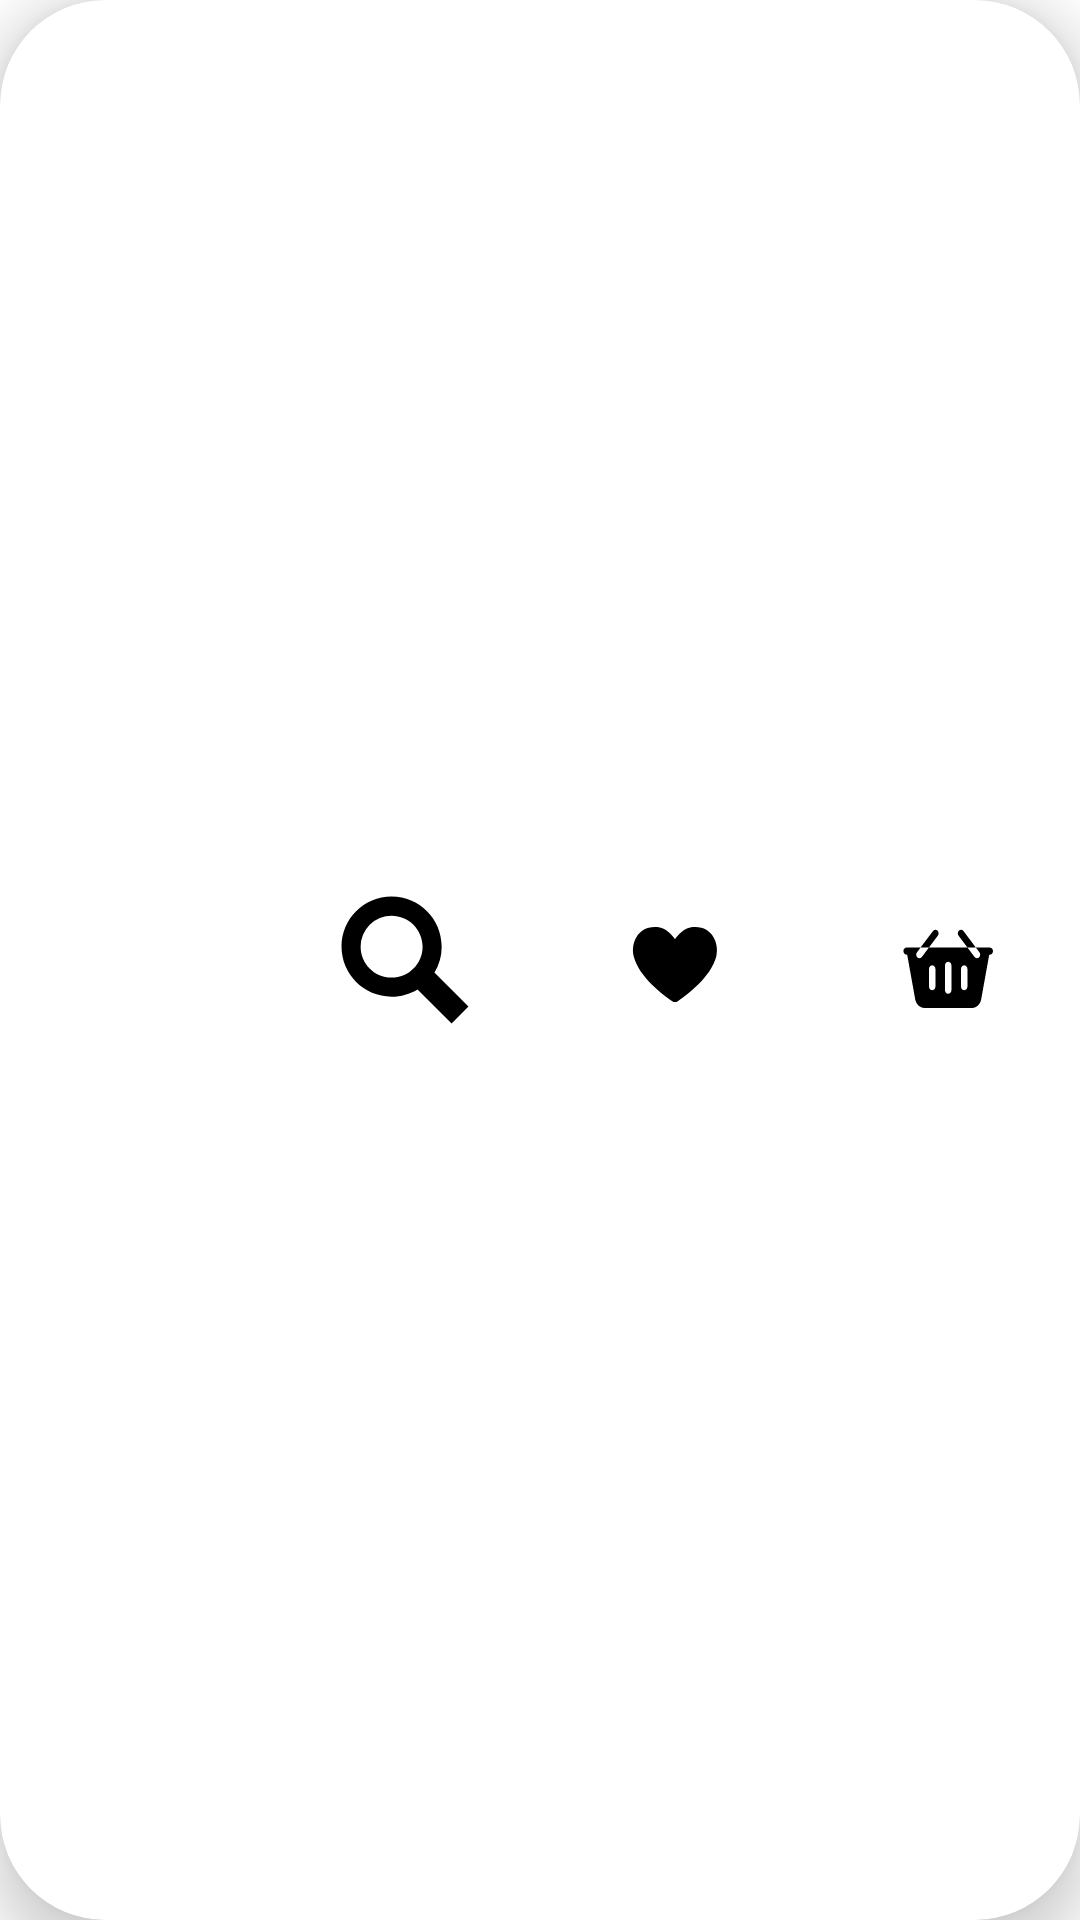

Point at icon controls on the screen. Image size 1080w x 1920h, points as [x,y].
Favorite: [675,964]
Search: [405,960]
